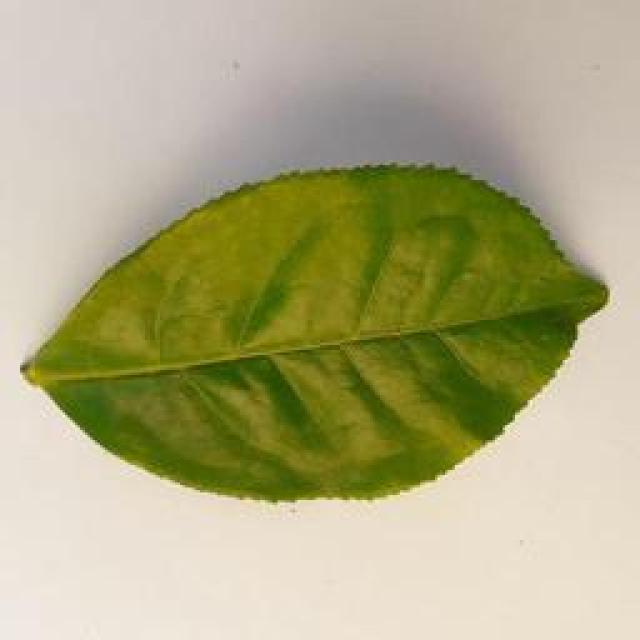Healthy: (26, 158, 610, 502)
